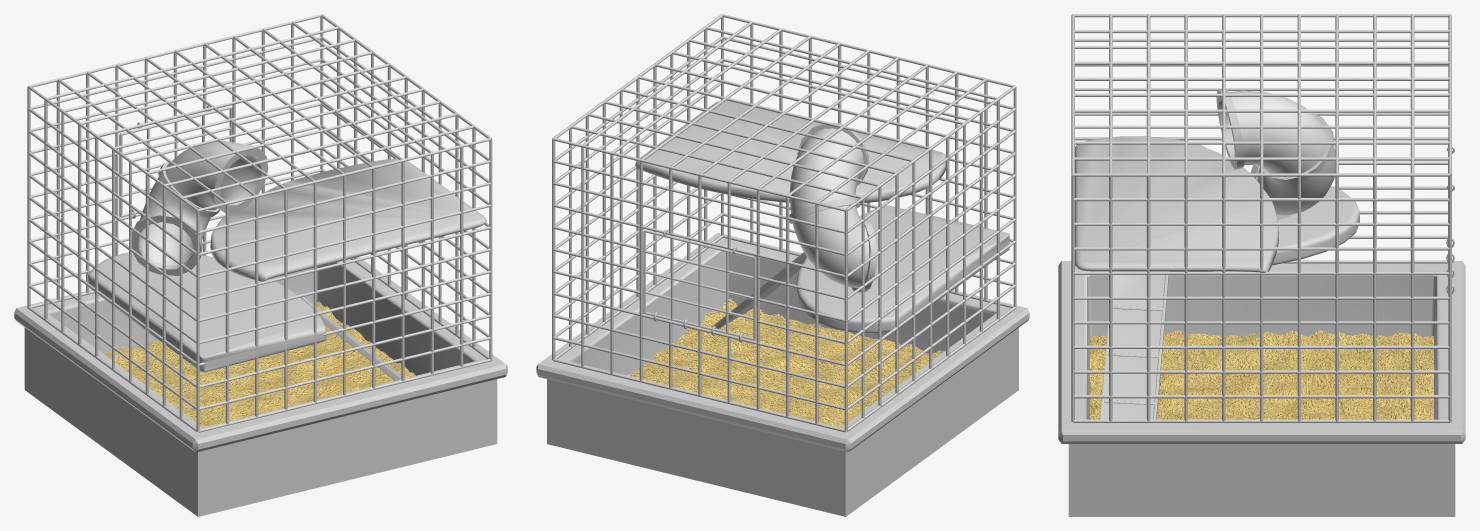
File: CageModel.FBX
The picture shows the model from 3 angles, left to right: view 1: azimuth 30°, elevation 25°; view 2: azimuth 150°, elevation 25°; view 3: azimuth 270°, elevation 25°; orthographic projection. The views are drawn at different scales.
Visible parts, largest first — view 1: Box003, Box001, Box004, Box005, Box002, Loft001, Plane001, Tube003, Tube002, Box006; view 2: Box003, Box001, Box002, Box004, Box005, Loft001, Plane001, Box006; view 3: Box001, Box003, Box002, Box004, Box006, Loft001, Box005, Tube002, Tube001.
Boxes of the visible parts, x1,y1,x2,y2 form: Box003: [27, 14, 492, 432]; Box001: [14, 257, 507, 516]; Box004: [210, 158, 486, 281]; Box005: [88, 252, 326, 372]; Box002: [104, 301, 415, 427]; Loft001: [139, 140, 256, 265]; Plane001: [119, 105, 232, 217]; Tube003: [132, 211, 202, 275]; Tube002: [209, 144, 268, 212]; Box006: [299, 294, 401, 380]; Box003: [552, 14, 1016, 432]; Box001: [536, 232, 1029, 516]; Box002: [628, 299, 943, 427]; Box004: [635, 100, 945, 203]; Box005: [796, 205, 1009, 333]; Loft001: [789, 128, 869, 287]; Plane001: [643, 229, 756, 340]; Box006: [711, 252, 806, 328]; Box001: [1058, 261, 1465, 516]; Box003: [1071, 14, 1451, 422]; Box002: [1090, 330, 1434, 419]; Box004: [1075, 136, 1278, 272]; Box006: [1099, 271, 1168, 419]; Loft001: [1227, 90, 1335, 215]; Box005: [1075, 186, 1359, 271]; Tube002: [1216, 88, 1244, 169]; Tube001: [1259, 113, 1334, 183].
Bounding box in the file's own units: 113 × 105 × 113.
